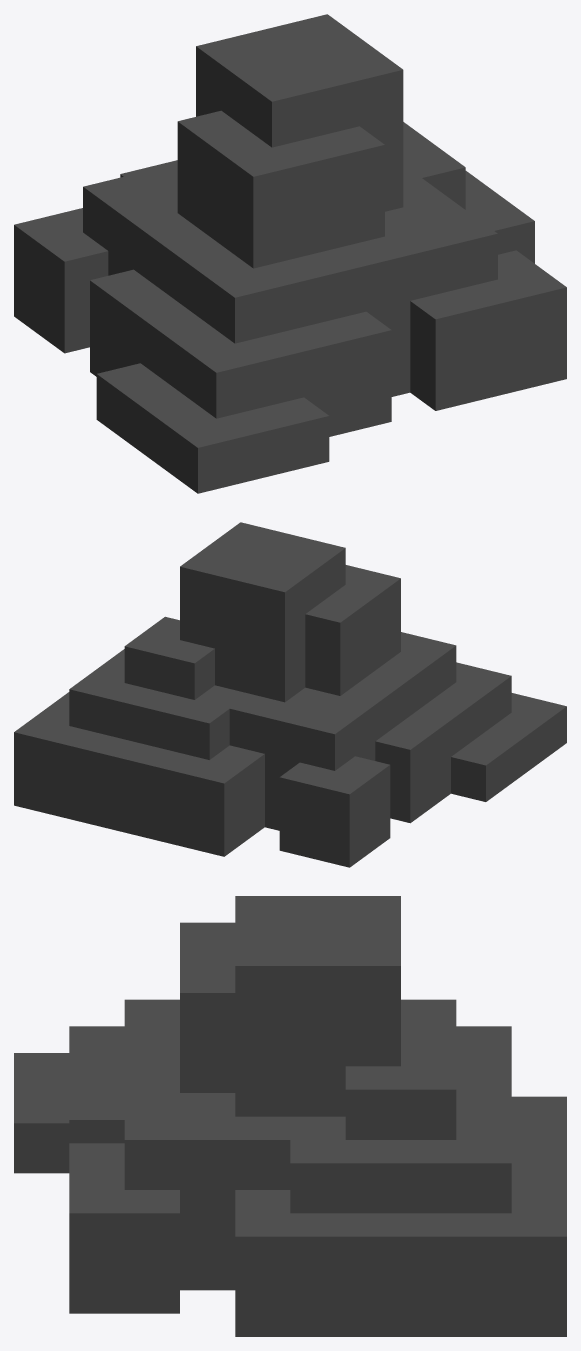
File: stone_4.obj
The picture shows the model from 3 angles, top to bottom: view 1: azimuth 30°, elevation 25°; view 2: azimuth 150°, elevation 25°; view 3: azimuth 270°, elevation 25°; orthographic projection. The views are drawn at different scales.
Size of the model in its own units: 1 by 0.6 by 1.
1 material, 1 textured.
